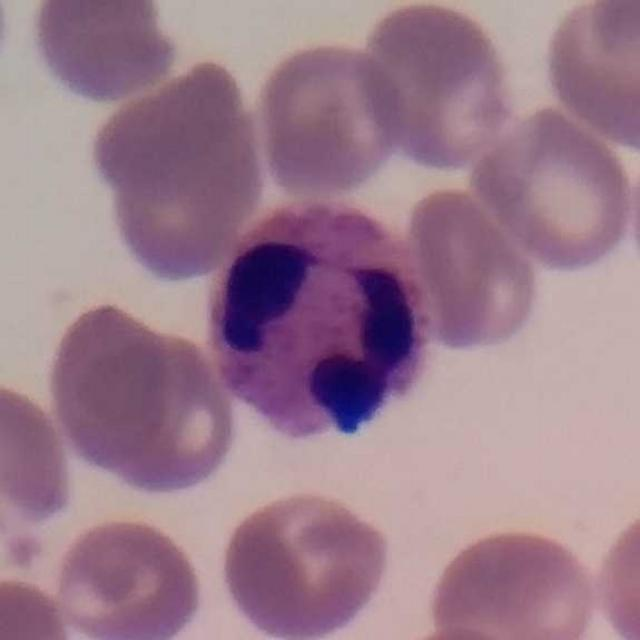Neutrophil: (197, 192, 446, 456)
RBC: (89, 52, 269, 283), (60, 322, 243, 501), (466, 102, 639, 276), (352, 1, 521, 174), (215, 484, 396, 640), (249, 34, 410, 200), (400, 180, 546, 358), (40, 294, 179, 471), (423, 521, 603, 640), (49, 511, 208, 640), (23, 0, 184, 108), (536, 0, 639, 150), (0, 375, 78, 552), (591, 501, 640, 640), (0, 571, 77, 640), (585, 1, 640, 75)
